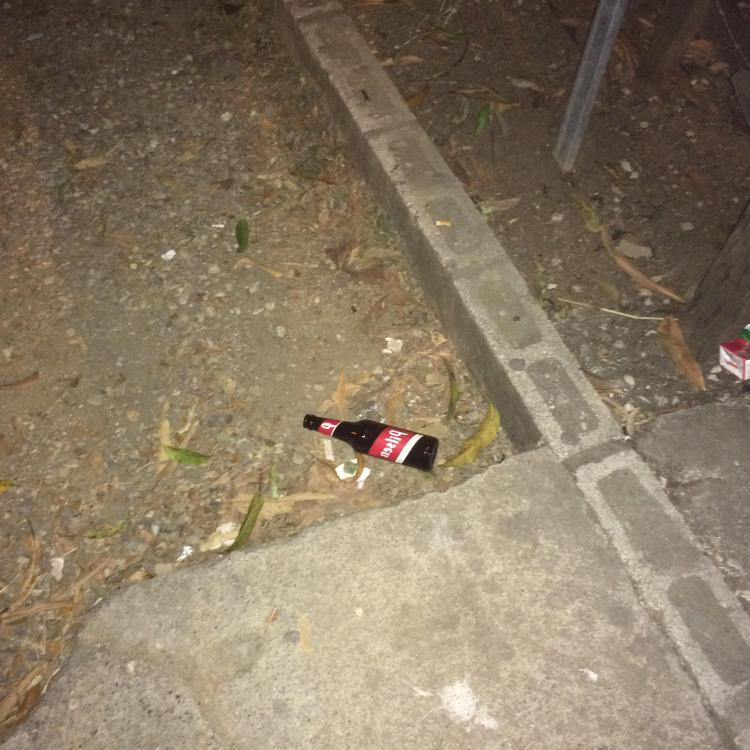Cigarette: (434, 220, 453, 227)
Glass bottle: (303, 414, 439, 471)
